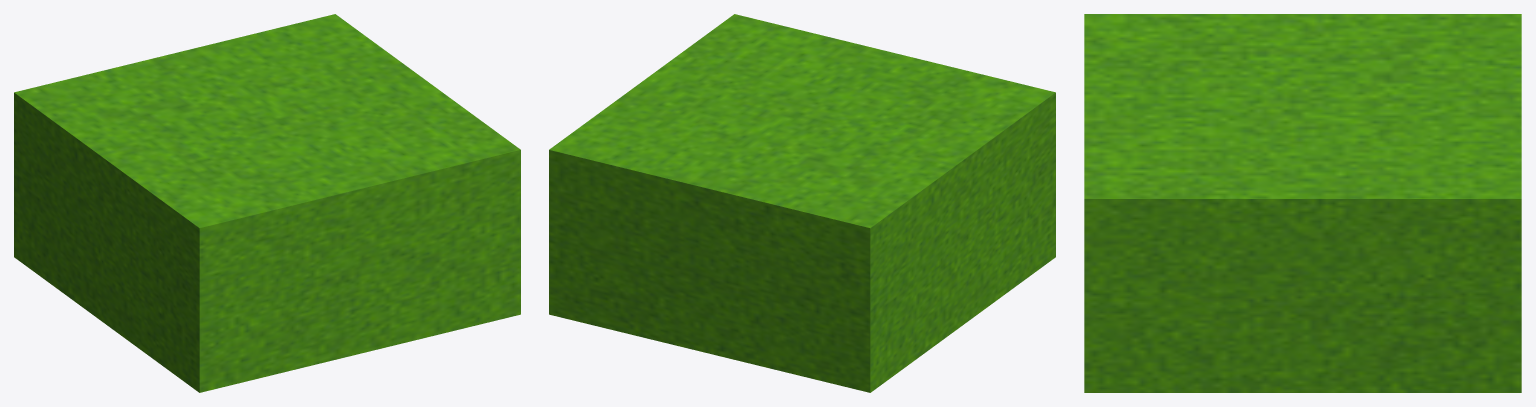
File: grass.fbx
3 renders of one model, left to right at view 1: azimuth 30°, elevation 25°; view 2: azimuth 150°, elevation 25°; view 3: azimuth 270°, elevation 25°, orthographic. The views are drawn at different scales.
Visible parts, largest first — view 1: pCube2; view 2: pCube2; view 3: pCube2.
Part boxes in pixels (x1=…): pCube2: x1=14, y1=14, x2=520, y2=392; pCube2: x1=549, y1=14, x2=1055, y2=392; pCube2: x1=1084, y1=14, x2=1521, y2=392.
Bounding box in the file's own units: 1 × 0.4898 × 1.
